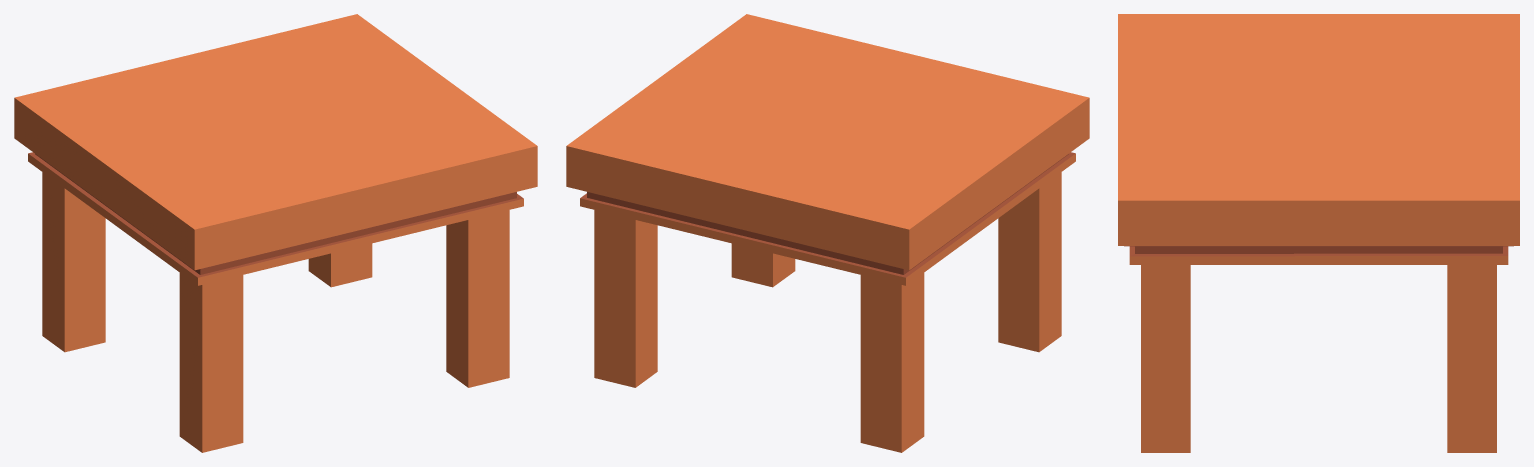
File: Woden_Table.fbx
3 renders of one model, left to right at view 1: azimuth 30°, elevation 25°; view 2: azimuth 150°, elevation 25°; view 3: azimuth 270°, elevation 25°, orthographic. The views are drawn at different scales.
Visible parts, largest first — view 1: Cube.002; view 2: Cube.002; view 3: Cube.002.
Boxes of the visible parts, x1,y1,x2,y2 form: Cube.002: (14, 14, 537, 452); Cube.002: (566, 14, 1089, 452); Cube.002: (1118, 14, 1519, 452).
Size of the model in its own units: 507 by 332 by 462.
